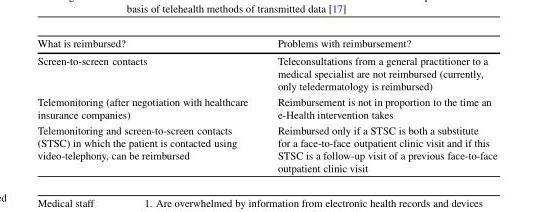table: (36, 36, 496, 173)
table column: (262, 36, 496, 173), (36, 36, 262, 173)
table column header: (36, 36, 496, 51)
table row: (36, 121, 496, 173), (36, 51, 496, 93), (36, 93, 496, 121), (36, 36, 496, 51)
